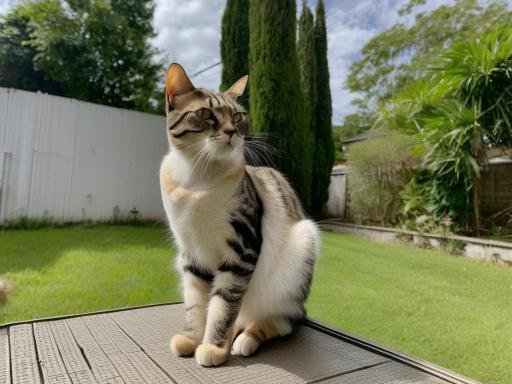cat_sitting: (160, 63, 318, 366)
